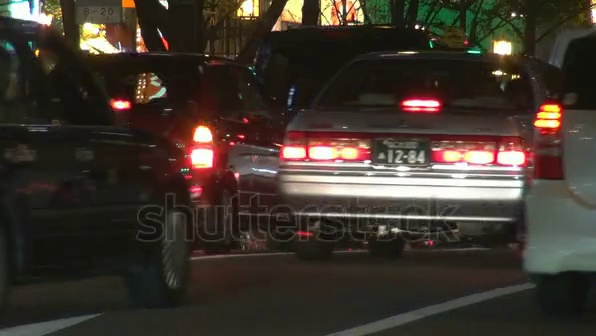licenseplate: (374, 141, 435, 169)
